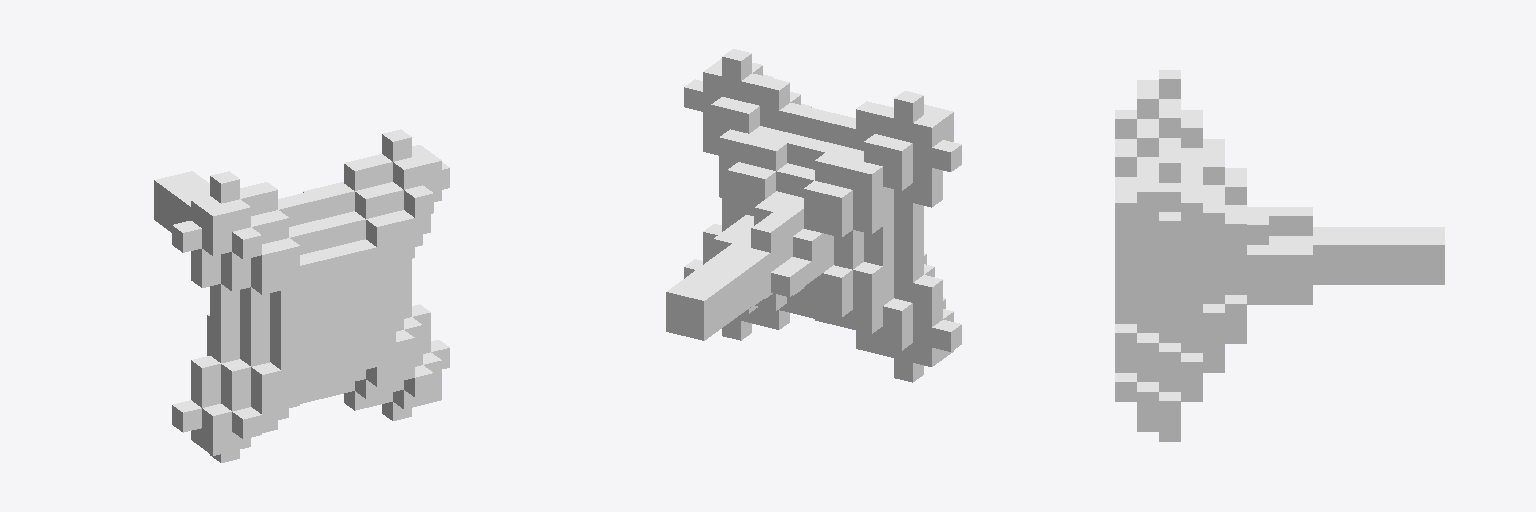
File: Ilumination-5.obj
The picture shows the model from 3 angles: view 1: azimuth 30°, elevation 25°; view 2: azimuth 150°, elevation 25°; view 3: azimuth 270°, elevation 25°; orthographic projection.
Parts seen in each view (by area): view 1: object 1; view 2: object 1; view 3: object 1.
Boxes of the visible parts, x1=… form: object 1: x1=154, y1=129, x2=449, y2=462; object 1: x1=666, y1=49, x2=961, y2=382; object 1: x1=1115, y1=70, x2=1444, y2=441.
Size of the model in its own units: 1.4 by 1.4 by 1.5.